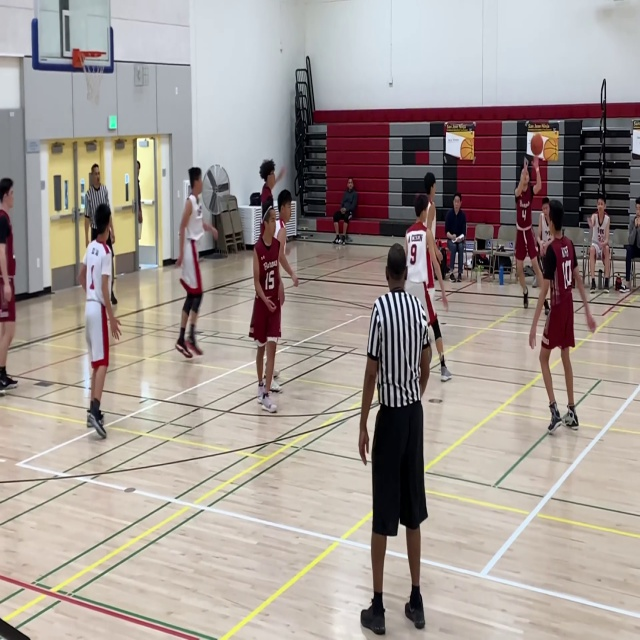Basketball: (530, 133, 543, 156)
